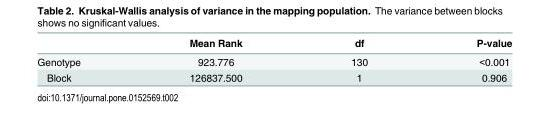table: (36, 36, 511, 83)
table column: (134, 36, 295, 83), (295, 36, 421, 83), (36, 36, 134, 83), (421, 36, 511, 83)
table column header: (36, 36, 511, 51)
table row: (36, 51, 511, 69), (36, 36, 511, 51), (36, 69, 511, 83)
